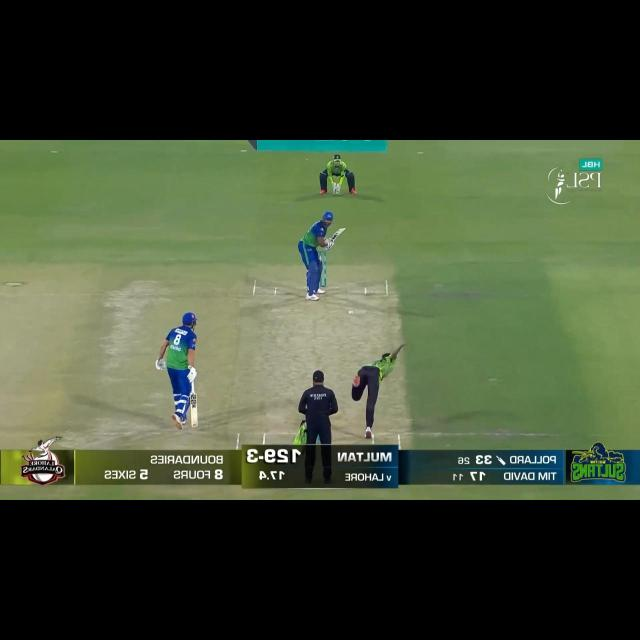bat: (190, 392, 202, 430), (330, 226, 347, 243)
toe: (336, 226, 347, 237), (191, 417, 200, 428)
